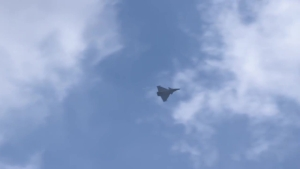flight: (156, 84, 181, 101)
